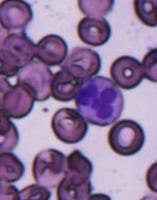N: (74, 75, 123, 125)
